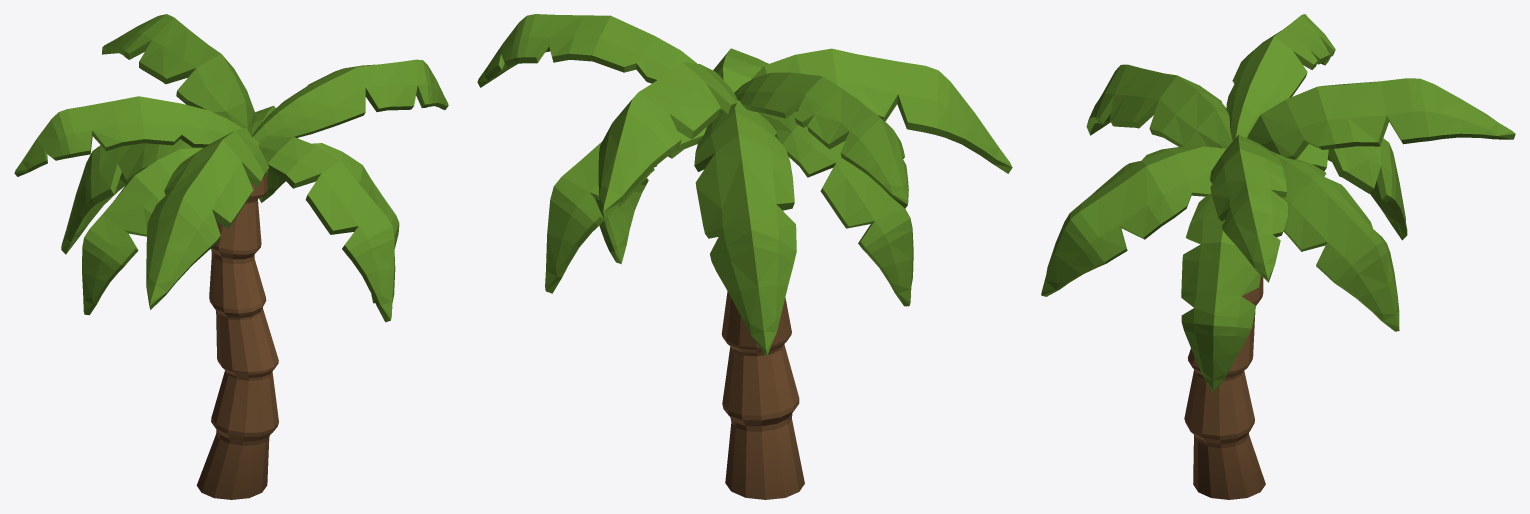
Rendered from palm-b.glb.
The picture shows the model from 3 angles, left to right: view 1: azimuth 30°, elevation 25°; view 2: azimuth 150°, elevation 25°; view 3: azimuth 270°, elevation 25°; orthographic projection. The views are drawn at different scales.
Size of the model in its own units: 2.86 by 2.69 by 2.75.
